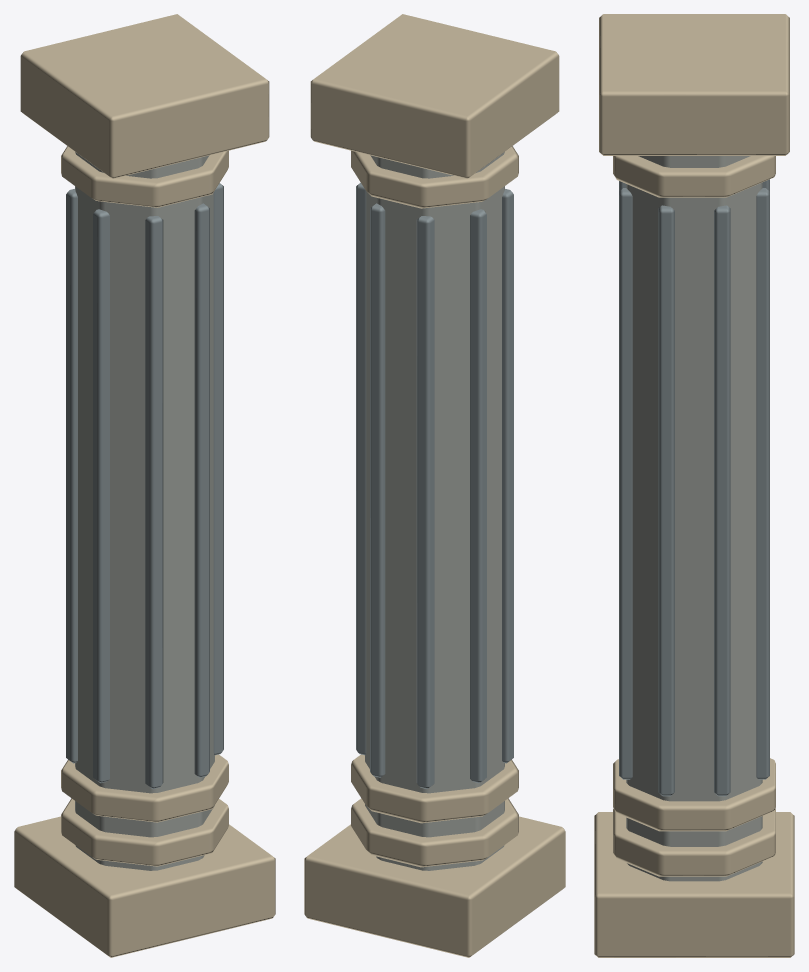
Rendered from SM_Column_4m.glb.
The picture shows the model from 3 angles, left to right: view 1: azimuth 30°, elevation 25°; view 2: azimuth 150°, elevation 25°; view 3: azimuth 270°, elevation 25°; orthographic projection. The views are drawn at different scales.
Parts seen in each view (by area): view 1: SM_Column_4m; view 2: SM_Column_4m; view 3: SM_Column_4m.
Boxes of the visible parts, x1,y1,x2,y2 form: SM_Column_4m: (14,14,275,957); SM_Column_4m: (304,14,565,957); SM_Column_4m: (594,14,794,957).
Size of the model in its own units: 0.84 by 4 by 0.84.
